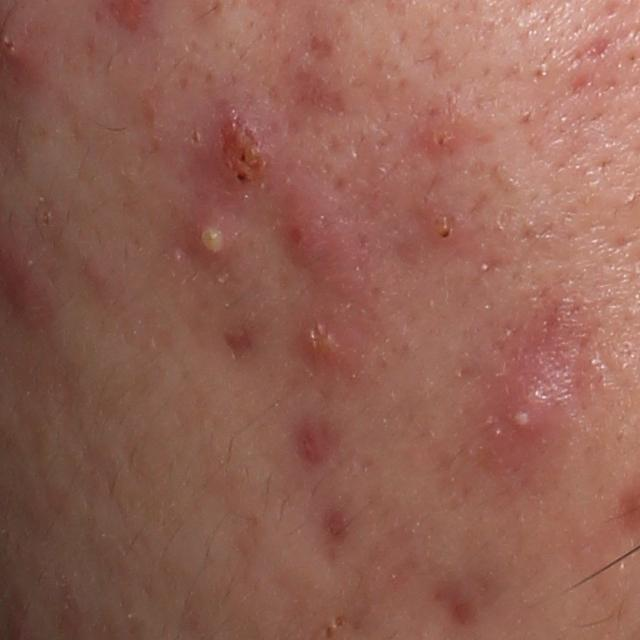atrophic_scar: (222, 328, 254, 367), (583, 30, 613, 58)
comedo: (332, 612, 346, 631)
papule: (203, 101, 279, 196), (279, 187, 354, 272), (295, 318, 356, 373), (292, 426, 328, 466), (79, 257, 116, 293)
pustule: (494, 357, 583, 470), (409, 107, 472, 162), (189, 216, 237, 270)
